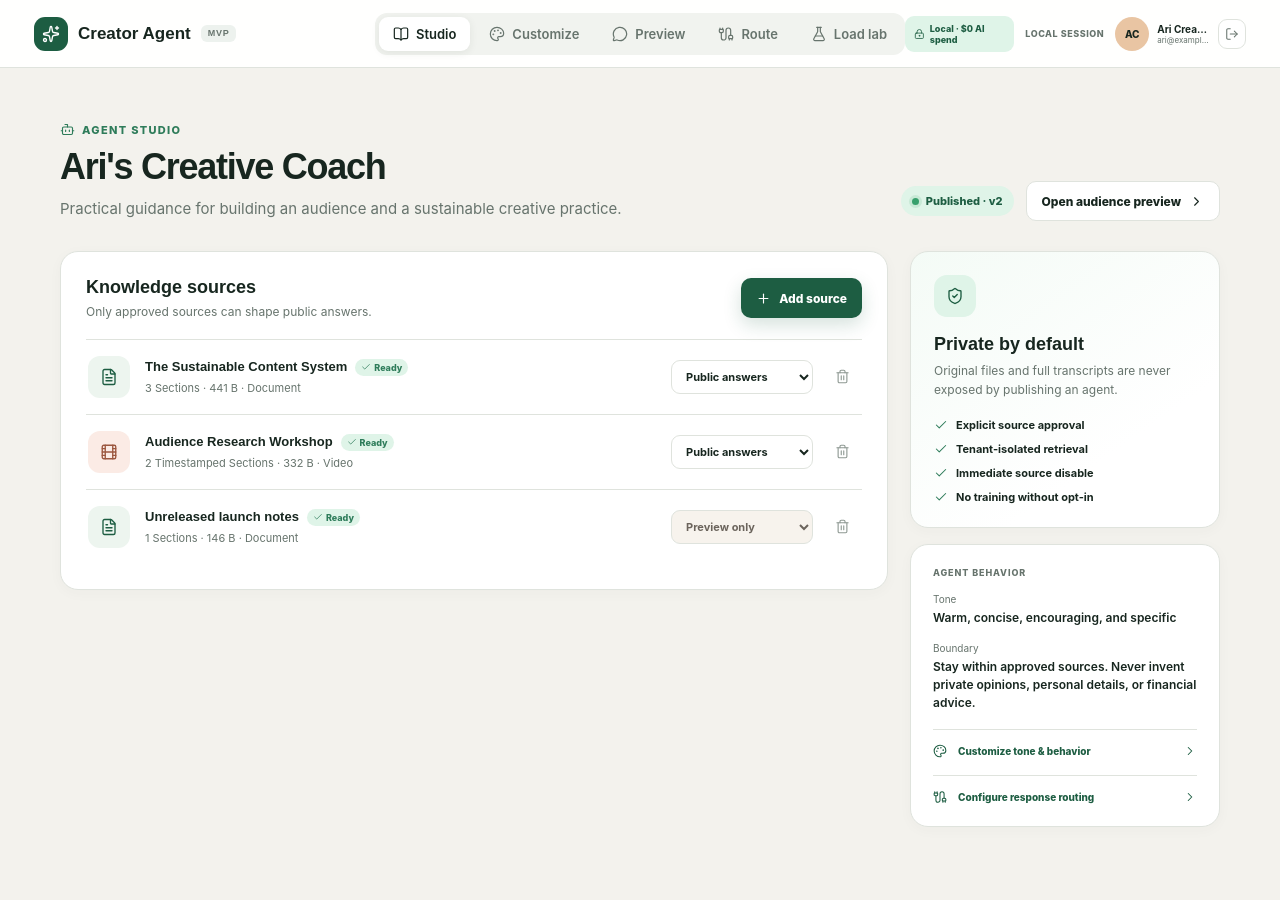
Test: Creator Agent simulator › routes to an explicitly activated user endpoint without exposing private sources
This screenshot has width=1280, height=900.
Click the button "Route".
click(748, 34)  # box [704,16,792,50]
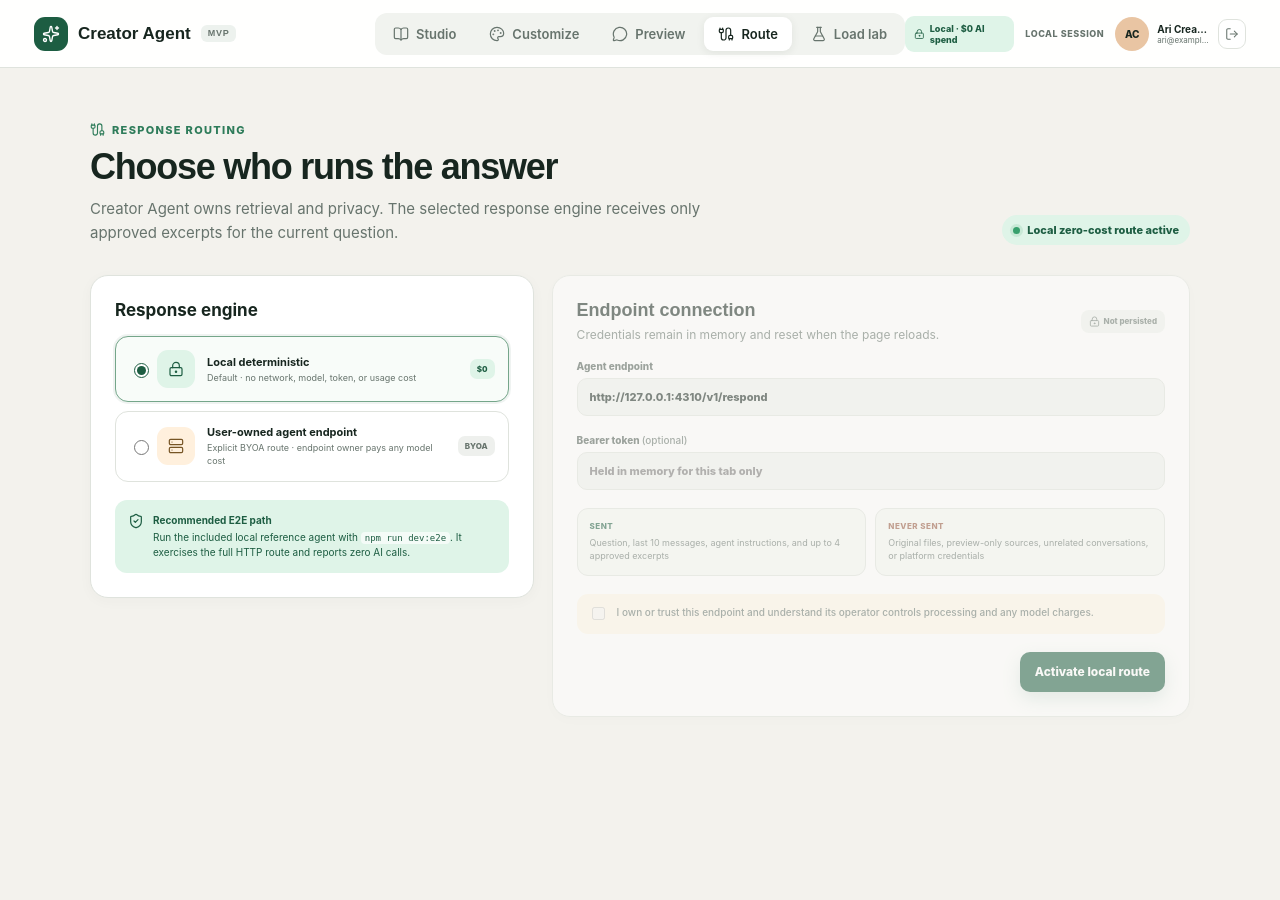
Click the radio button labelled "User-owned agent endpoint".
click(142, 448)  # box [134,440,149,455]
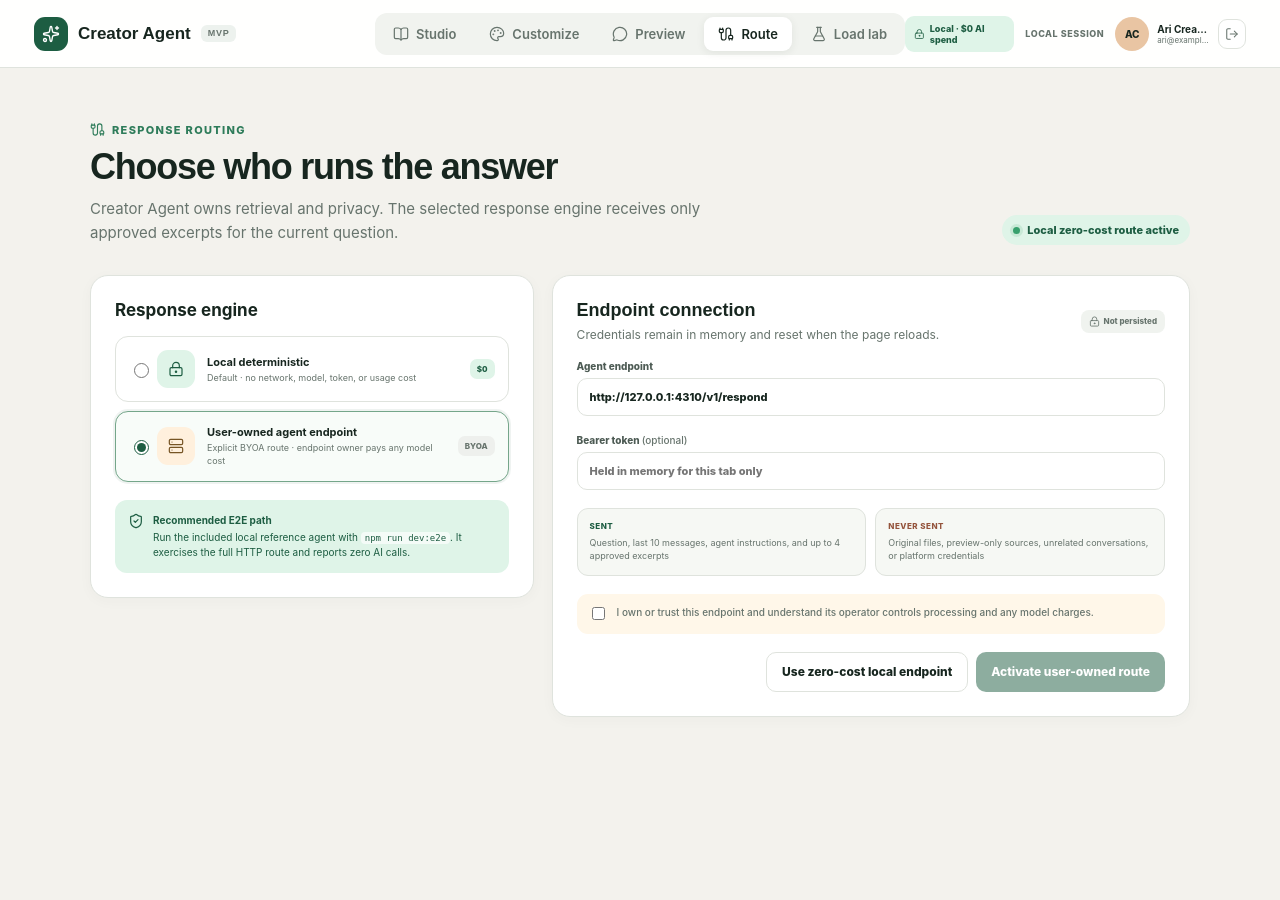
Expected: the button "Activate user-owned route" is disabled, [976,652,1165,692]
Click the checkbox labelled "I own or trust this endpoint".
click(598, 613)  # box [592,607,605,620]
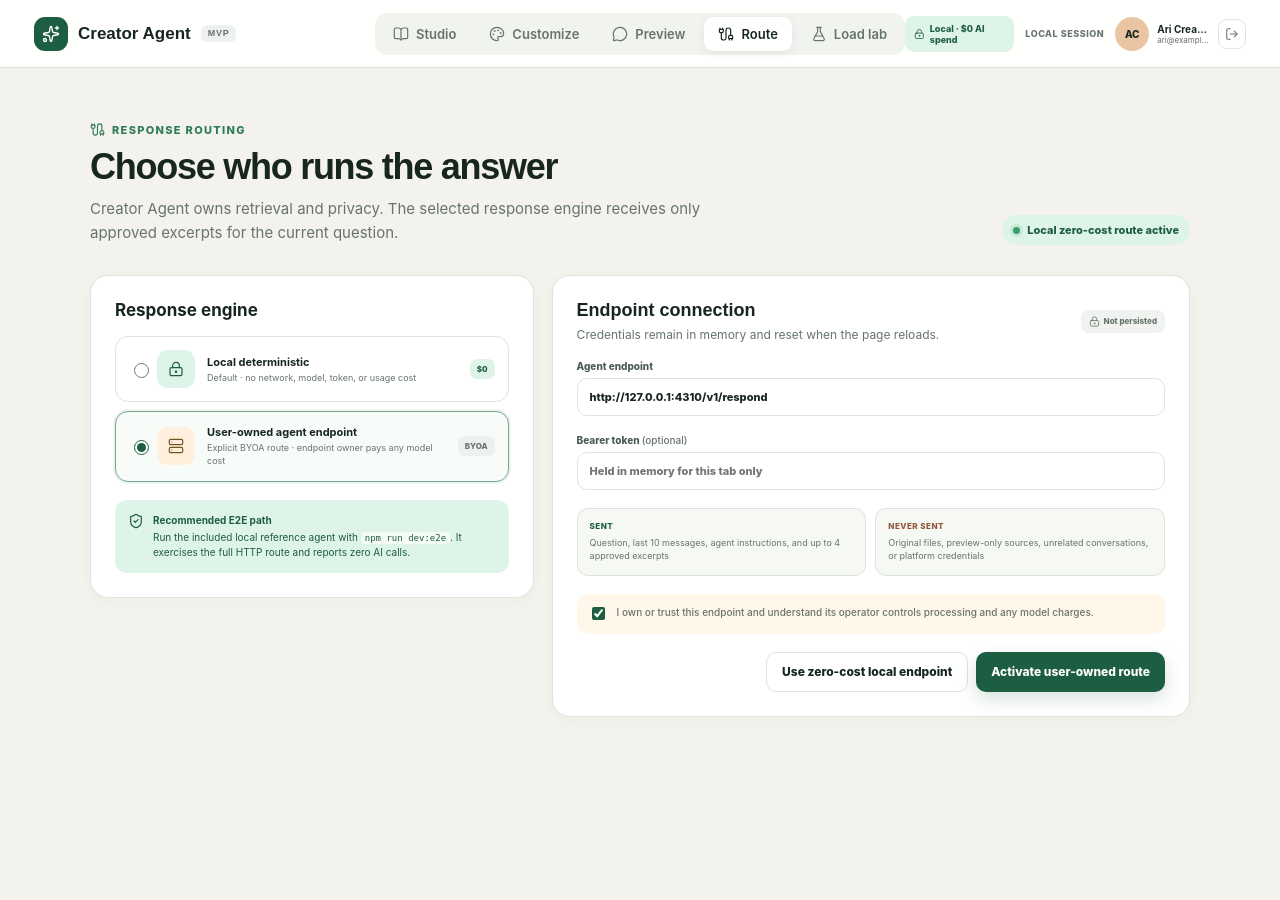
Expected: the button "Activate user-owned route" is enabled
Click the button "Activate user-owned route".
click(1071, 672)  # box [976,652,1165,692]
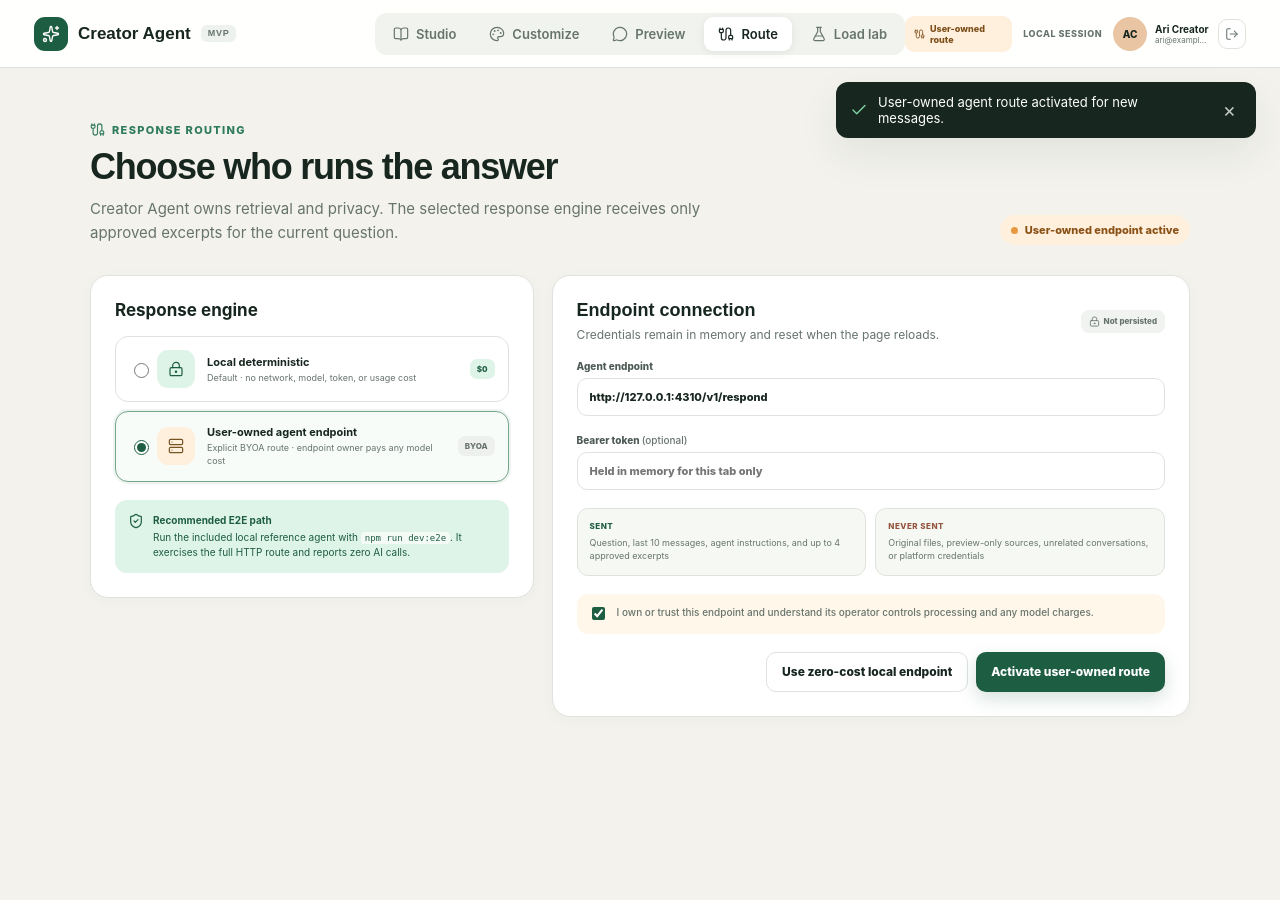
Click the button "Preview".
click(649, 34)  # box [598,16,699,50]
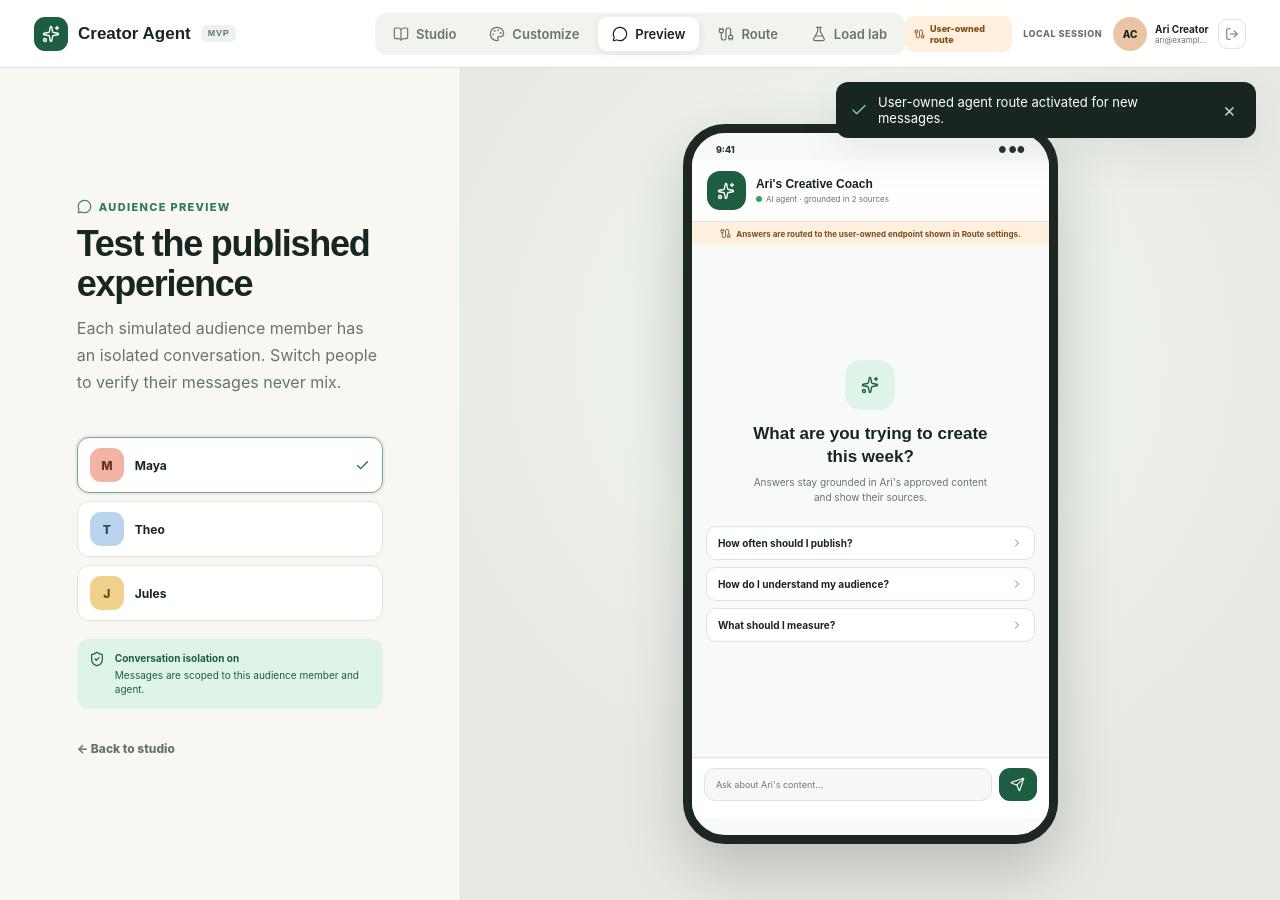
Click the button "How often should I publish?".
click(785, 543)  # box [706,526,1035,560]
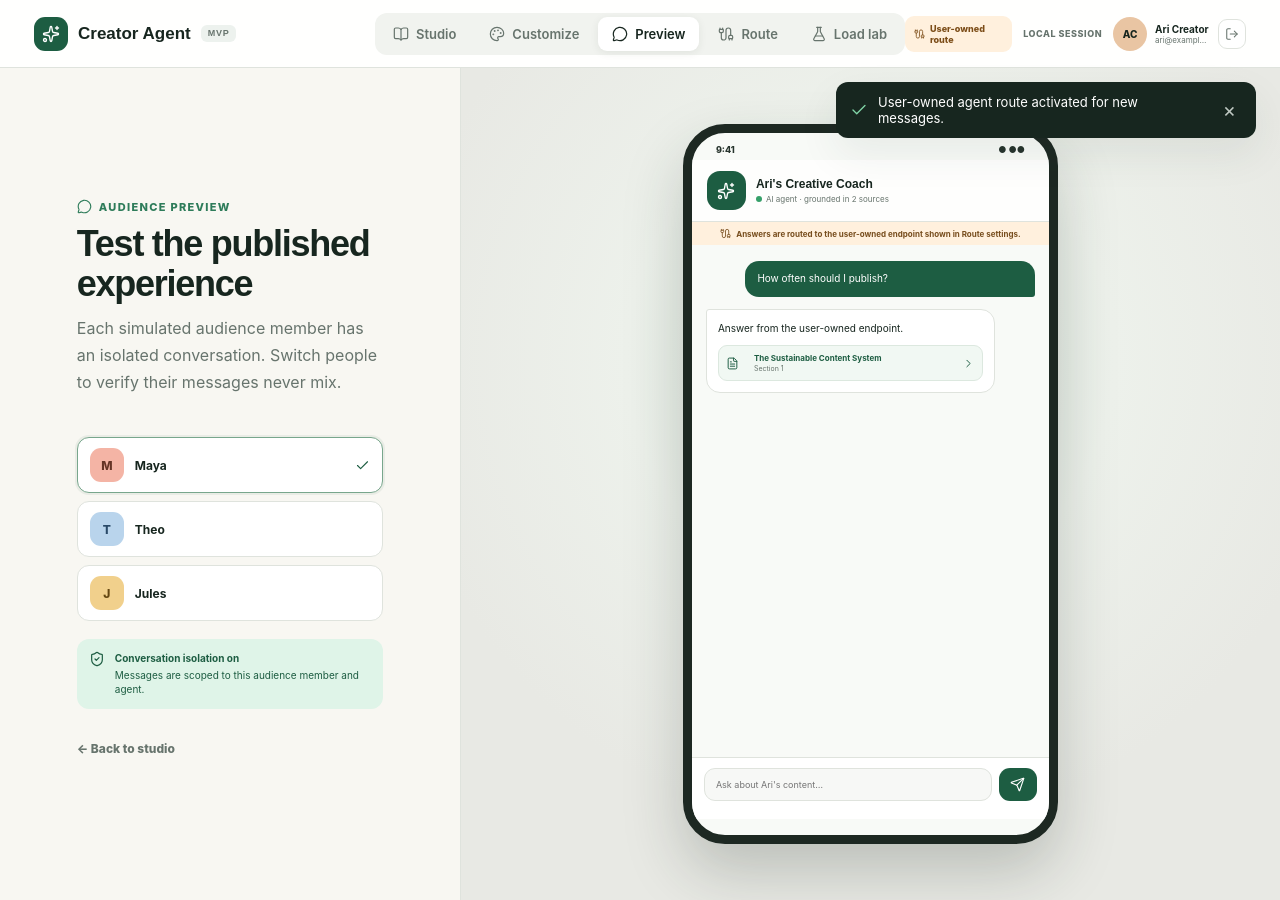
Expected: the text "routed to the user-owned endpoint" is shown, [736,228,1021,238]
Expected: the text "Answer from the user-owned endpoint." is shown, [718,322,903,334]
